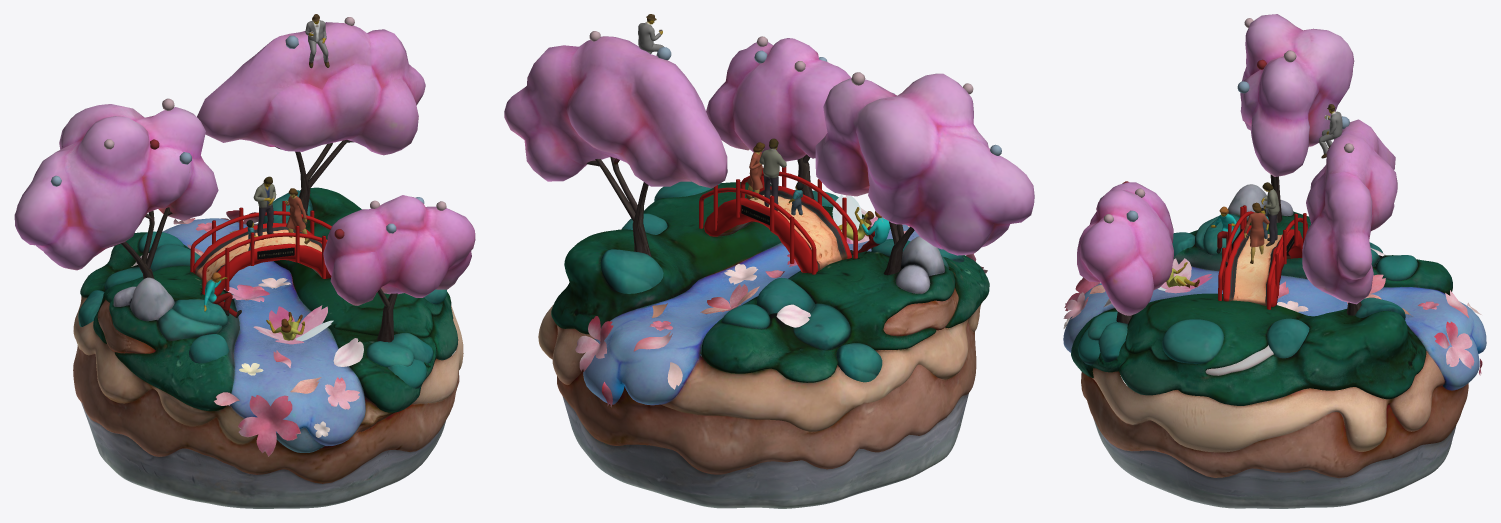
File: rivermove1.gltf
The picture shows the model from 3 angles, left to right: view 1: azimuth 30°, elevation 25°; view 2: azimuth 150°, elevation 25°; view 3: azimuth 270°, elevation 25°; orthographic projection. The views are drawn at different scales.
Visible parts, largest first — view 1: ground, sakuraA (×2), sakuraB, sakuraC (×2), river, bridge_base, Group2 (×2), rock1, polySurface106, polySurface101, polySurface124, polySurface122 (+11 smaller); view 2: ground, sakuraB, sakuraA, river, sakuraC, bridge_base, polySurface112, polySurface114, polySurface123, polySurface113, Group2 (×2), rock1 (+8 smaller); view 3: ground, sakuraB, sakuraA, sakuraC, river, bridge_base, polySurface115, polySurface110, Group2 (×2), sakuraAA, polySurface104, polySurface125 (+6 smaller).
Part boxes in pixels (bbox=[...]): ground: bbox=[73, 187, 463, 508]; sakuraA (×2): bbox=[197, 22, 425, 409]; sakuraB: bbox=[14, 104, 218, 270]; sakuraC (×2): bbox=[238, 195, 475, 456]; river: bbox=[162, 218, 365, 445]; bridge_base: bbox=[193, 223, 331, 295]; Group2 (×2): bbox=[204, 14, 329, 317]; rock1: bbox=[130, 277, 174, 321]; polySurface106: bbox=[158, 308, 222, 340]; polySurface101: bbox=[172, 299, 228, 326]; polySurface124: bbox=[367, 341, 413, 367]; polySurface122: bbox=[189, 334, 228, 363]; ground: bbox=[538, 182, 989, 508]; sakuraB: bbox=[815, 73, 1034, 255]; sakuraA: bbox=[504, 36, 727, 188]; river: bbox=[583, 217, 918, 405]; sakuraC: bbox=[706, 38, 851, 161]; bridge_base: bbox=[704, 186, 851, 273]; polySurface112: bbox=[600, 249, 663, 293]; polySurface114: bbox=[793, 303, 850, 349]; polySurface123: bbox=[836, 343, 882, 382]; polySurface113: bbox=[757, 278, 815, 314]; Group2 (×2): bbox=[638, 14, 890, 255]; rock1: bbox=[901, 236, 944, 275]; ground: bbox=[1071, 211, 1468, 508]; sakuraB: bbox=[1240, 14, 1354, 176]; sakuraA: bbox=[1302, 119, 1397, 304]; sakuraC: bbox=[1077, 182, 1173, 315]; river: bbox=[1063, 263, 1486, 390]; bridge_base: bbox=[1222, 225, 1302, 306]; polySurface115: bbox=[1162, 319, 1223, 363]; polySurface110: bbox=[1267, 318, 1309, 358]; Group2 (×2): bbox=[1210, 104, 1342, 266]; sakuraAA: bbox=[1446, 321, 1474, 368]; polySurface104: bbox=[1375, 255, 1418, 280]; polySurface125: bbox=[1098, 322, 1127, 362].
Size of the model in its own units: 0.1652 by 0.1377 by 0.139.
Materials: 1 (1 with a texture image).
